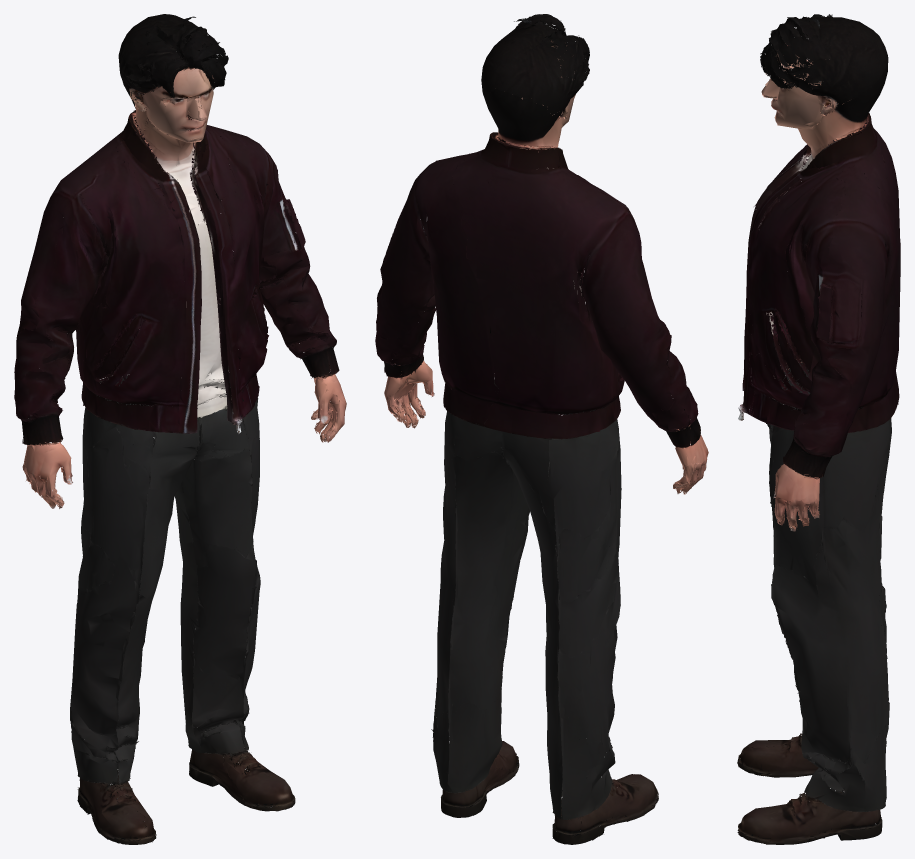
The model's file is player-male-stunning-v1.glb.
3 views of the same model, side by side, from view 1: azimuth 30°, elevation 25°; view 2: azimuth 150°, elevation 25°; view 3: azimuth 270°, elevation 25° (orthographic).
Parts seen in each view (by area): view 1: player-male-stunning-v1-0; view 2: player-male-stunning-v1-0; view 3: player-male-stunning-v1-0.
Boxes of the visible parts, <box> form: player-male-stunning-v1-0: <box>14,14,346,844</box>; player-male-stunning-v1-0: <box>375,14,708,844</box>; player-male-stunning-v1-0: <box>737,14,900,844</box>.
Size of the model in its own units: 0.7298 by 1.74 by 0.3269.
1 material, 1 textured.
